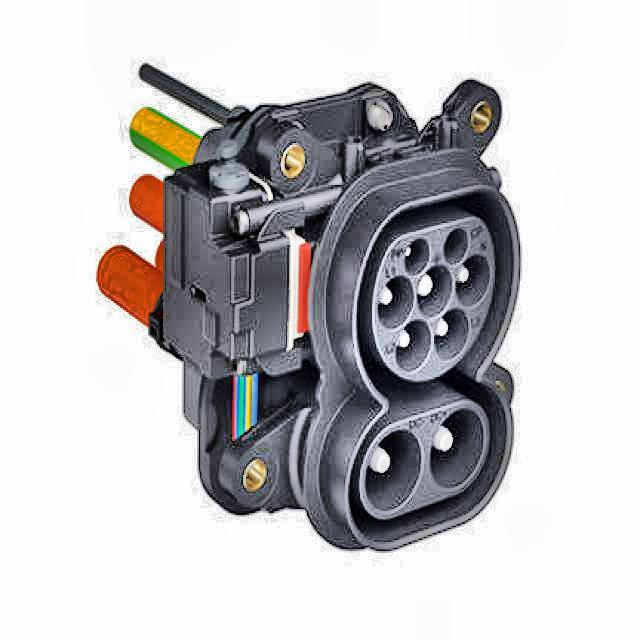inlet: (373, 216, 495, 382)
inlet-above-left: (405, 238, 430, 276)
inlet-above-right: (445, 227, 468, 263)
inlet-below-left: (395, 321, 432, 374)
inlet-below-right: (435, 307, 470, 360)
inlet-center: (415, 264, 451, 319)
inlet-center-left: (378, 274, 414, 332)
inlet-center-right: (454, 254, 490, 306)
